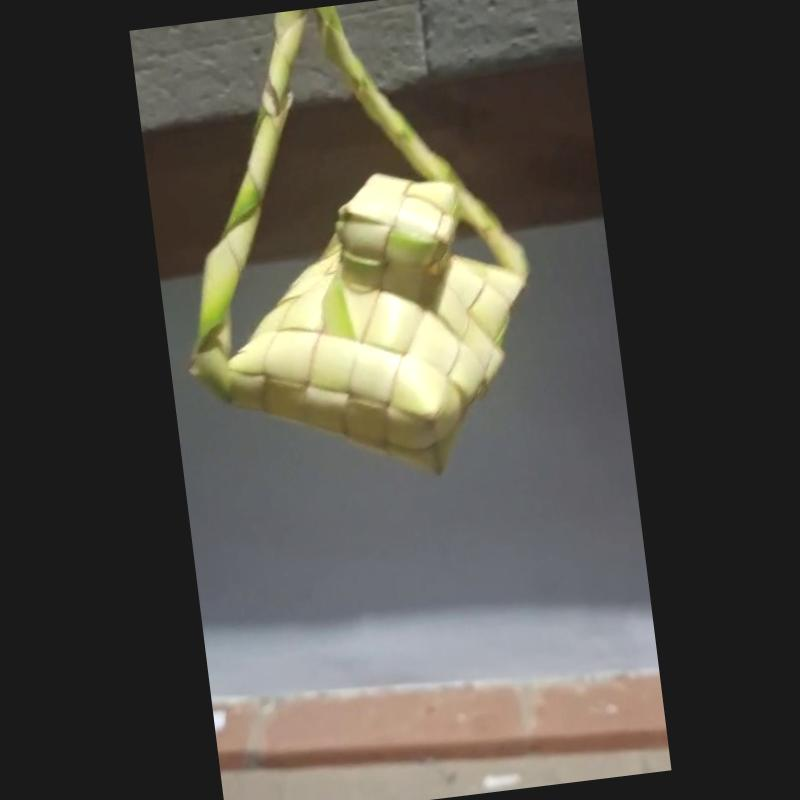Tipat Gong: (190, 5, 532, 476)
